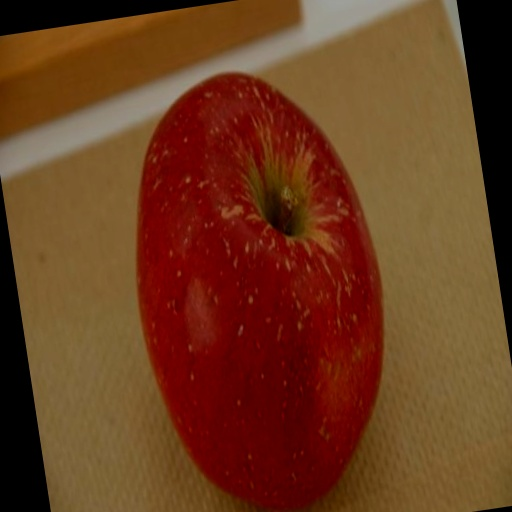fruit: (136, 74, 382, 508)
